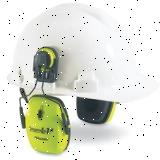Helmet: (6, 1, 160, 103)
